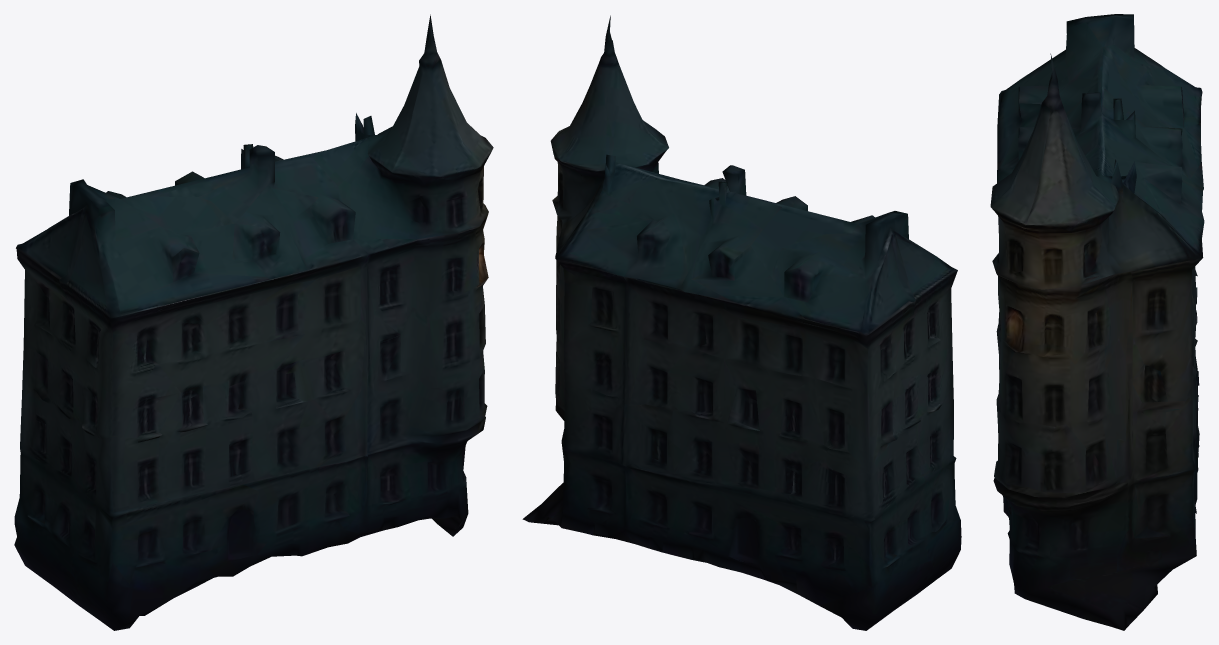
Rendered from kamienica.glb.
The picture shows the model from 3 angles, left to right: view 1: azimuth 30°, elevation 25°; view 2: azimuth 150°, elevation 25°; view 3: azimuth 270°, elevation 25°; orthographic projection. The views are drawn at different scales.
Parts seen in each view (by area): view 1: tripo_node_b1767ef9-a006-43ca-b82c-61cd6a981a1f; view 2: tripo_node_b1767ef9-a006-43ca-b82c-61cd6a981a1f; view 3: tripo_node_b1767ef9-a006-43ca-b82c-61cd6a981a1f.
Boxes of the visible parts, bbox=[...] form: tripo_node_b1767ef9-a006-43ca-b82c-61cd6a981a1f: bbox=[14, 14, 493, 630]; tripo_node_b1767ef9-a006-43ca-b82c-61cd6a981a1f: bbox=[522, 15, 961, 630]; tripo_node_b1767ef9-a006-43ca-b82c-61cd6a981a1f: bbox=[990, 14, 1204, 630].
Bounding box in the file's own units: 0.8147 × 1 × 0.3538.
Materials: 1 (1 with a texture image).
